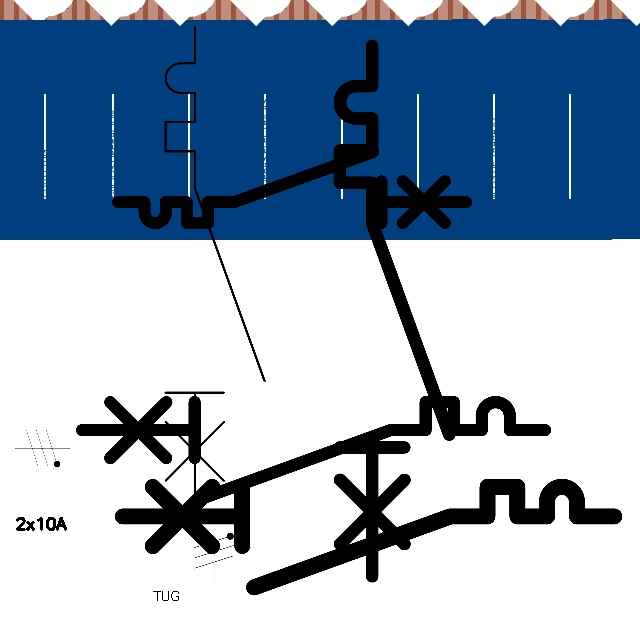interruptor_termomagnetico: (326, 32, 462, 590), (110, 474, 627, 600), (153, 14, 277, 523), (70, 390, 557, 509), (109, 143, 475, 232)
